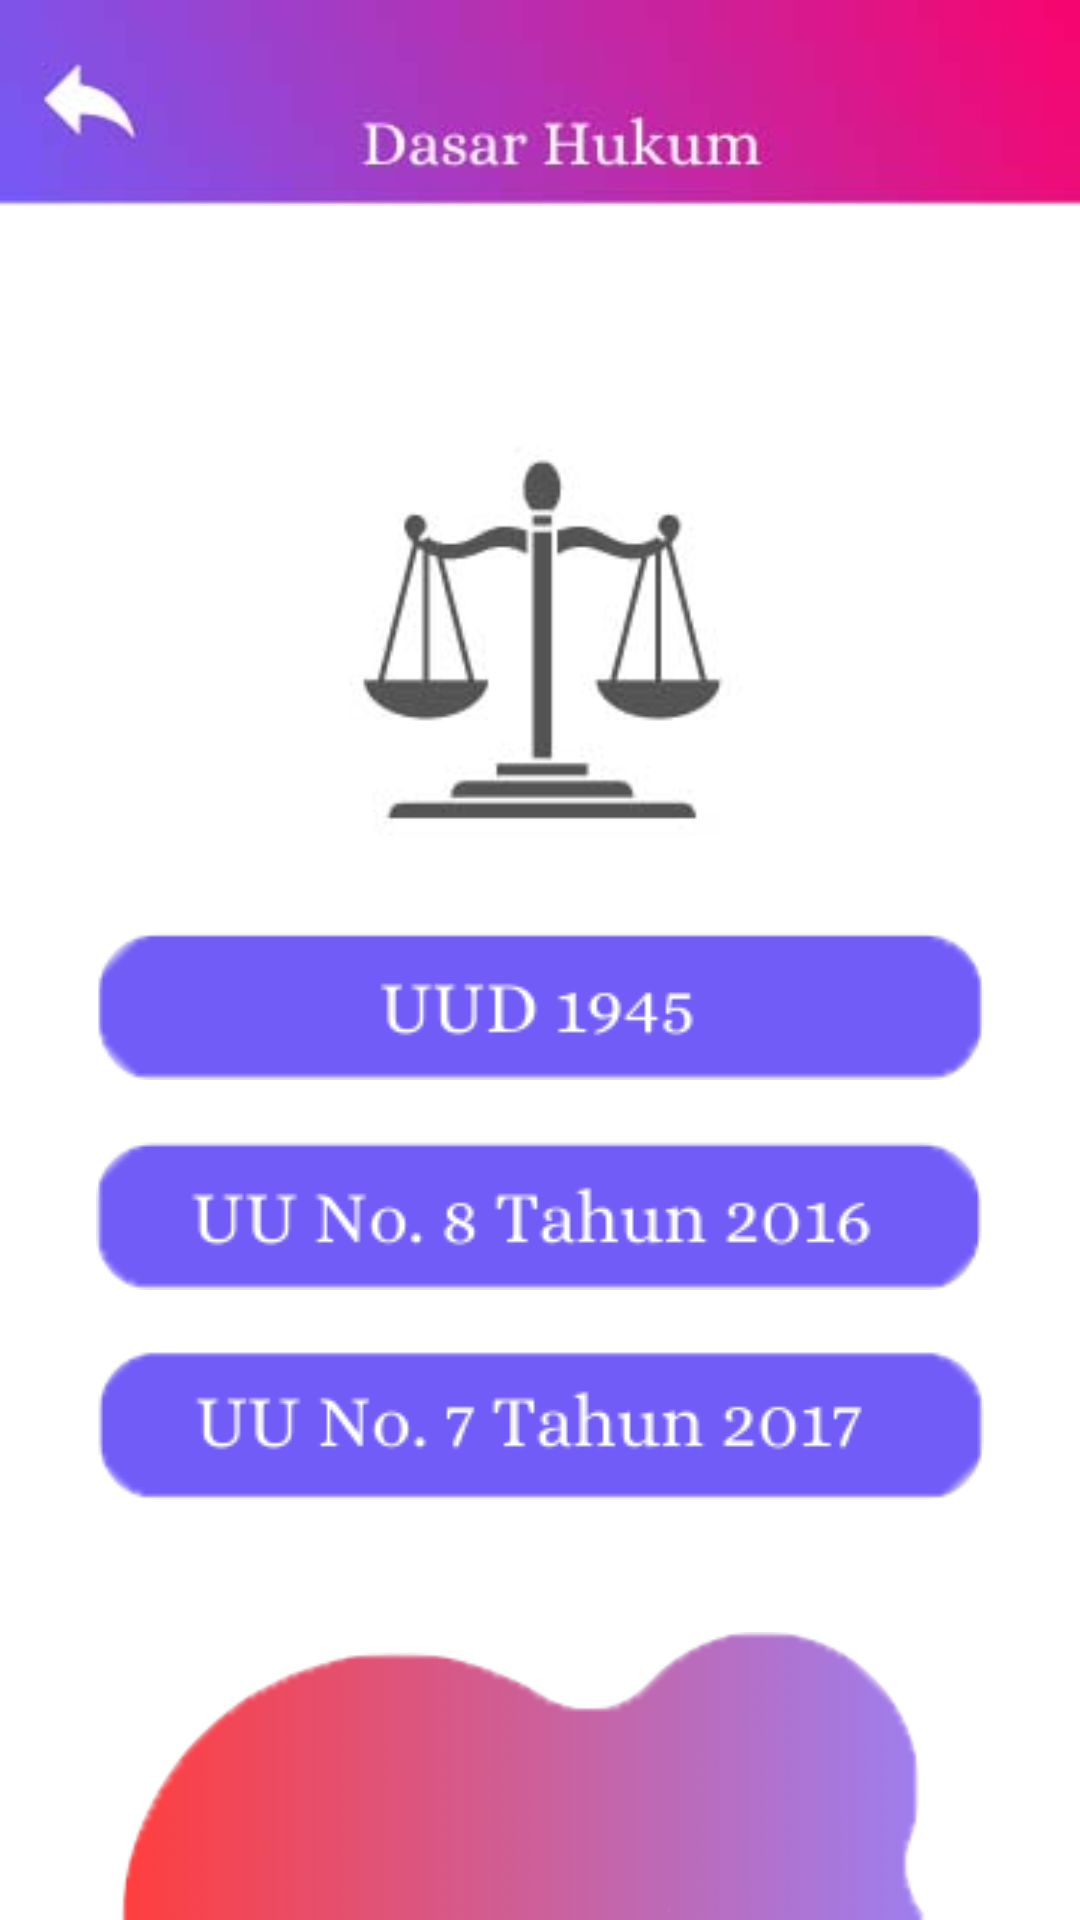

Where icons sit on this 1080×1920 app screen, as Rect(x1, y1, x2, y2):
dasar hukum: Rect(363, 460, 722, 819)
